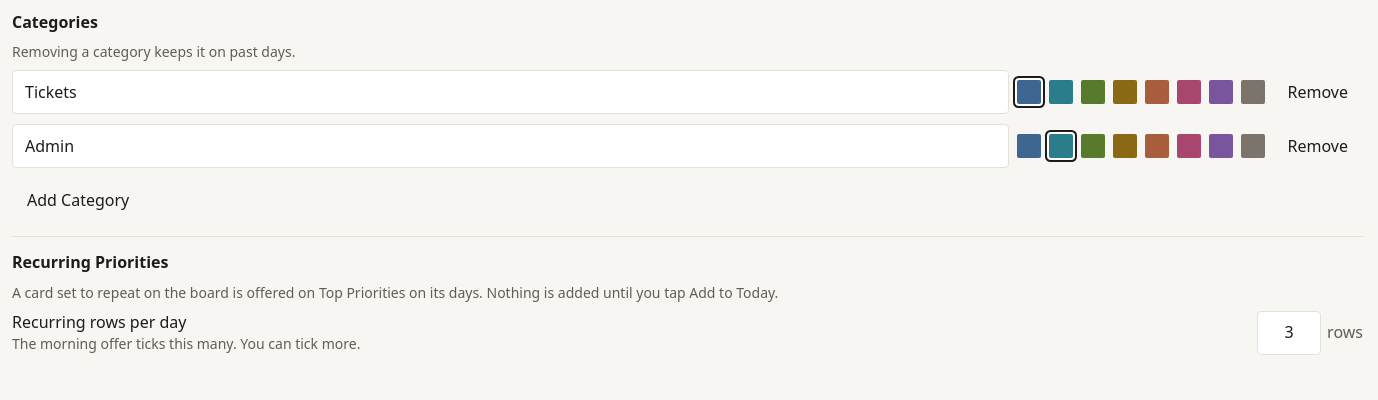
Test: BoardTab › refuses a name another category in use has, whatever its case, and sends nothing
Replace the text in the field named "Name of Admin" with " TICKETS" at (510, 146), box [12, 124, 1008, 168]
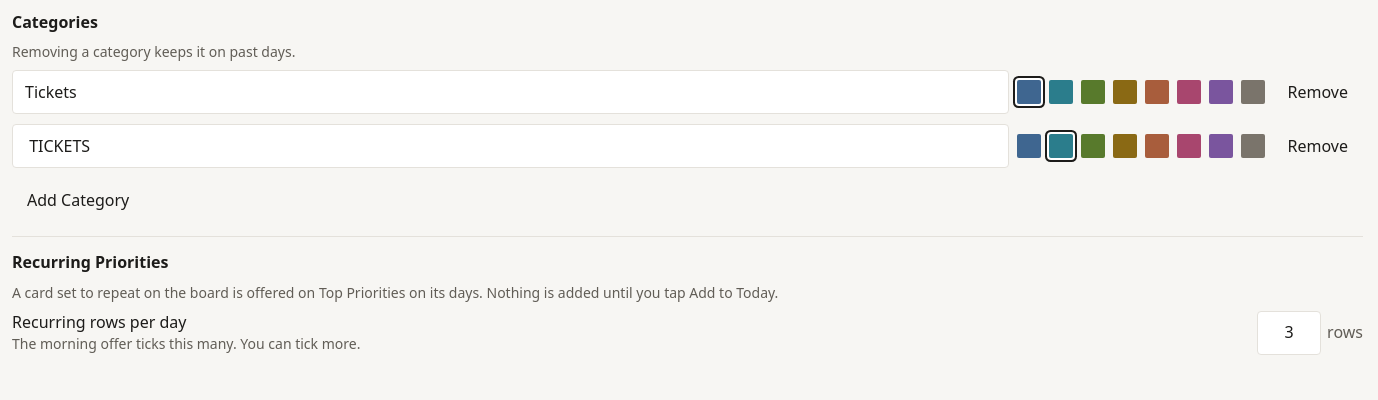
Leave the field named "Name of Admin", box [12, 124, 1008, 168]
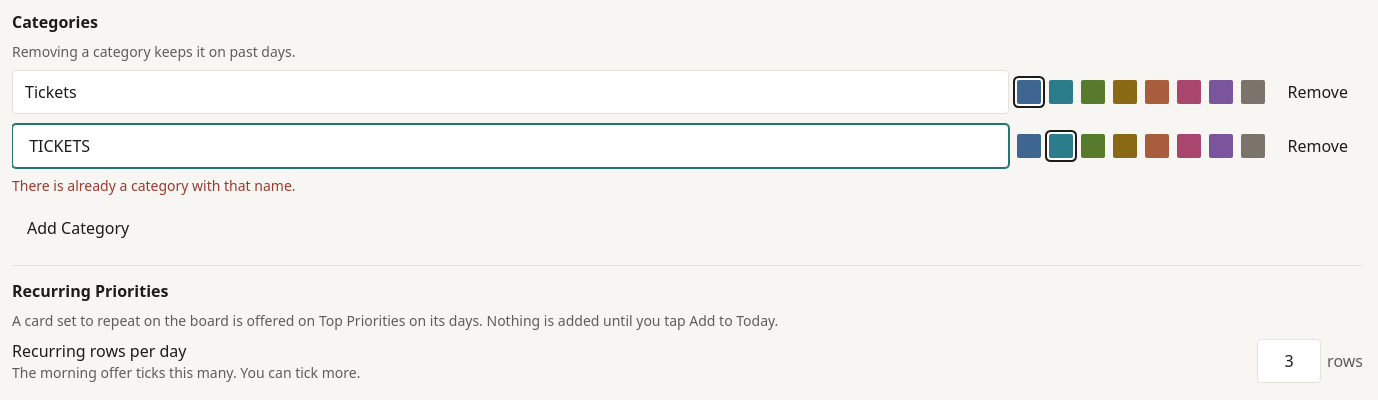
Now the message reads "There is already a category with that name.", box [12, 176, 296, 196]
Replace the text in the field named "Name of Admin" with "tickets" at (510, 146), box [12, 124, 1008, 168]
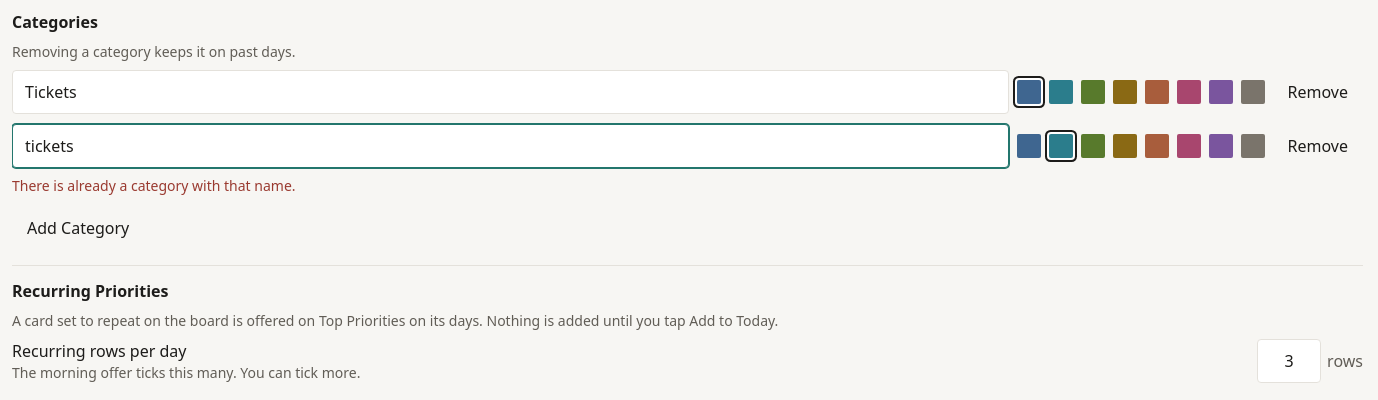
Press Enter in the field named "Name of Admin", box [12, 124, 1008, 168]
Now the message reads "There is already a category with that name.", box [12, 176, 296, 196]
// A removed category's name is free.
Replace the text in the field named "Name of Admin" with "Old work" at (510, 146), box [12, 124, 1008, 168]
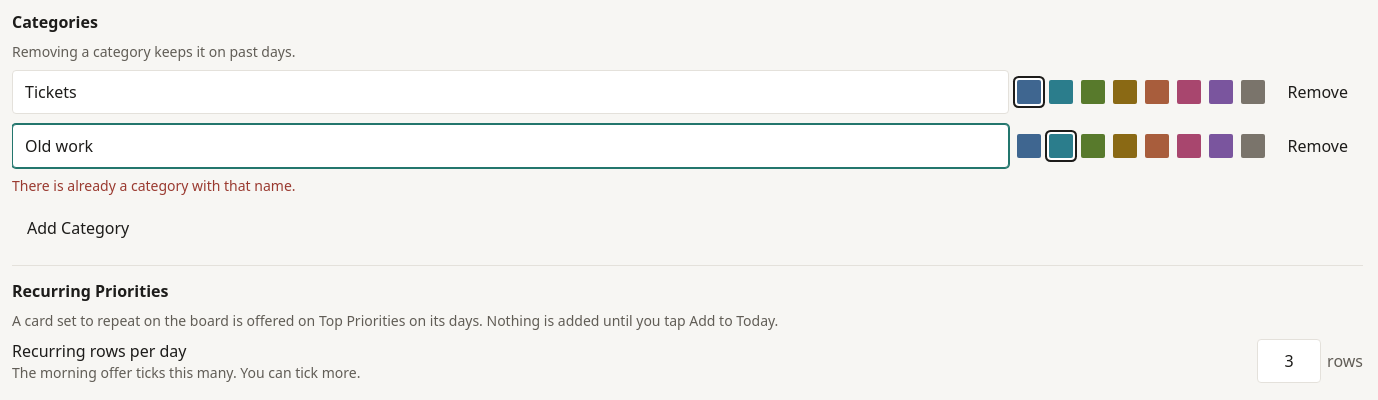
Leave the field named "Name of Admin", box [12, 124, 1008, 168]
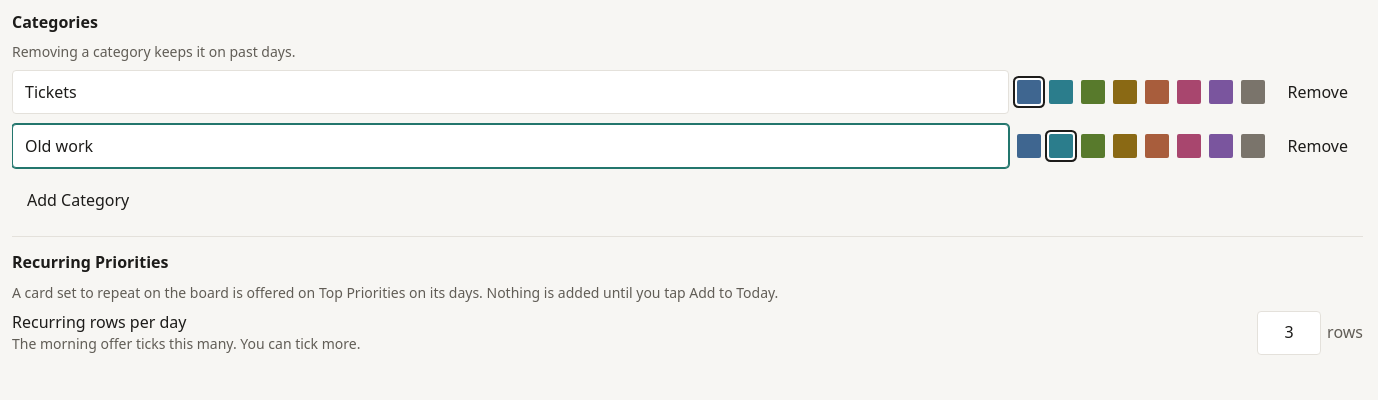
Now the message "There is already a category with that name." is gone
